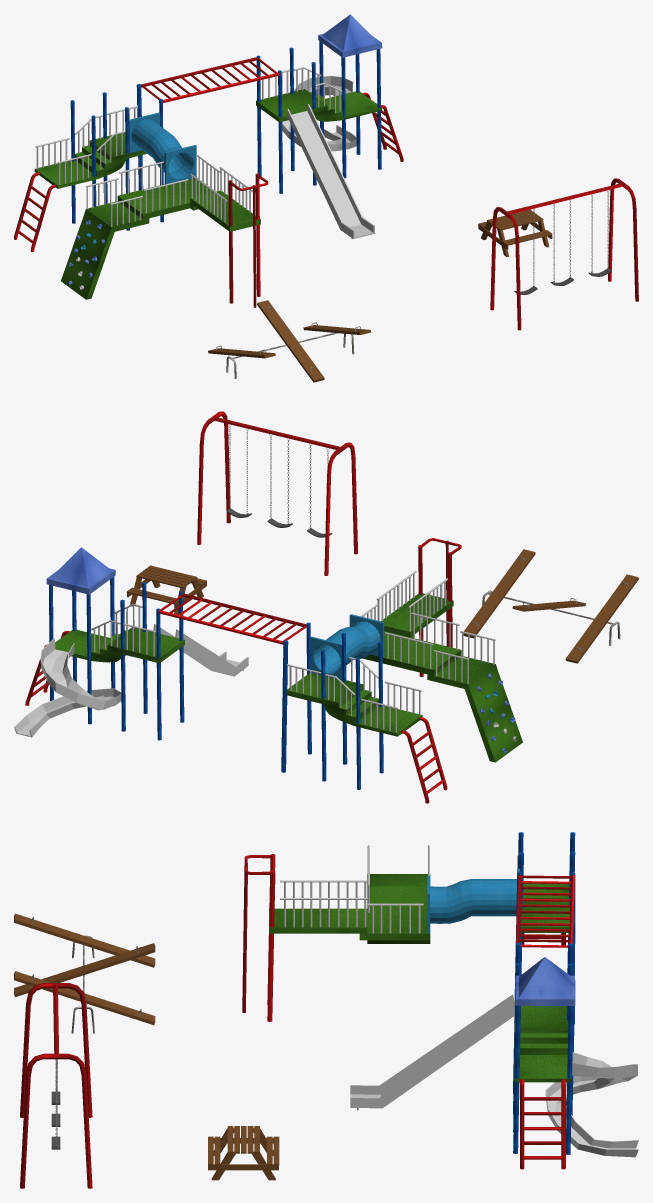
File: FBXPlayground.fbx
3 renders of one model, top to bottom at view 1: azimuth 30°, elevation 25°; view 2: azimuth 150°, elevation 25°; view 3: azimuth 270°, elevation 25°, orthographic. The views are drawn at different scales.
Visible parts, largest first — view 1: Walkway03, Slide1, SwingSet1, Tunnel01, SeeSaw01, Walkway01, Walkway02, MonkeyBars01, Firepole01, Roof01, PicnicTable1, Slide2 (+6 smaller); view 2: Walkway03, SwingSet1, SeeSaw01, Slide2, Walkway02, Tunnel01, Walkway01, MonkeyBars01, Roof01, PicnicTable1, Slide1, Firepole01 (+9 smaller); view 3: Walkway03, SwingSet1, SeeSaw01, Slide1, Walkway01, Tunnel01, Slide2, PicnicTable1, MonkeyBars01, Roof01, Firepole01, Walkway02 (+4 smaller).
Part boxes in pixels (x1=…): Walkway03: x1=61, y1=178, x2=260, y2=299; Slide1: x1=287, y1=104, x2=374, y2=239; SwingSet1: x1=490, y1=178, x2=638, y2=330; Tunnel01: x1=129, y1=112, x2=196, y2=184; SeeSaw01: x1=208, y1=300, x2=371, y2=382; Walkway01: x1=256, y1=89, x2=381, y2=122; Walkway02: x1=34, y1=132, x2=146, y2=188; MonkeyBars01: x1=141, y1=57, x2=279, y2=102; Firepole01: x1=228, y1=173, x2=268, y2=307; Roof01: x1=318, y1=14, x2=382, y2=57; PicnicTable1: x1=478, y1=209, x2=552, y2=257; Slide2: x1=282, y1=75, x2=356, y2=151; Walkway03: x1=363, y1=593, x2=522, y2=762; SwingSet1: x1=197, y1=411, x2=357, y2=575; SeeSaw01: x1=463, y1=549, x2=638, y2=663; Slide2: x1=14, y1=638, x2=121, y2=737; Walkway02: x1=286, y1=673, x2=422, y2=736; Tunnel01: x1=310, y1=614, x2=384, y2=680; Walkway01: x1=55, y1=627, x2=184, y2=663; MonkeyBars01: x1=158, y1=593, x2=306, y2=644; Roof01: x1=46, y1=547, x2=115, y2=594; PicnicTable1: x1=126, y1=565, x2=206, y2=614; Slide1: x1=153, y1=624, x2=248, y2=676; Firepole01: x1=418, y1=538, x2=461, y2=676; Walkway03: x1=269, y1=874, x2=430, y2=943; SwingSet1: x1=20, y1=983, x2=92, y2=1188; SeeSaw01: x1=14, y1=913, x2=155, y2=1033; Slide1: x1=350, y1=994, x2=514, y2=1110; Walkway01: x1=514, y1=998, x2=571, y2=1082; Tunnel01: x1=427, y1=868, x2=519, y2=933; Slide2: x1=545, y1=1052, x2=638, y2=1157; PicnicTable1: x1=208, y1=1126, x2=279, y2=1180; MonkeyBars01: x1=516, y1=874, x2=574, y2=947; Roof01: x1=515, y1=957, x2=575, y2=1005; Firepole01: x1=242, y1=854, x2=275, y2=1021; Walkway02: x1=521, y1=883, x2=569, y2=932.
Size of the model in its own units: 19.23 by 6.81 by 20.33.
